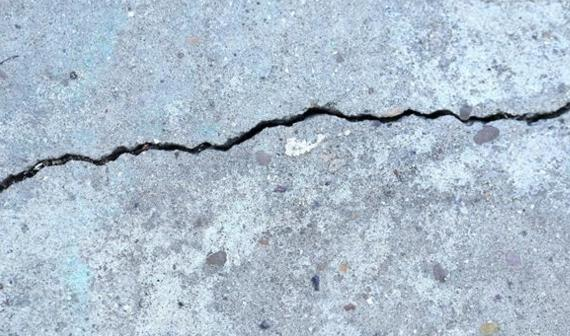crack: (2, 94, 570, 215)
